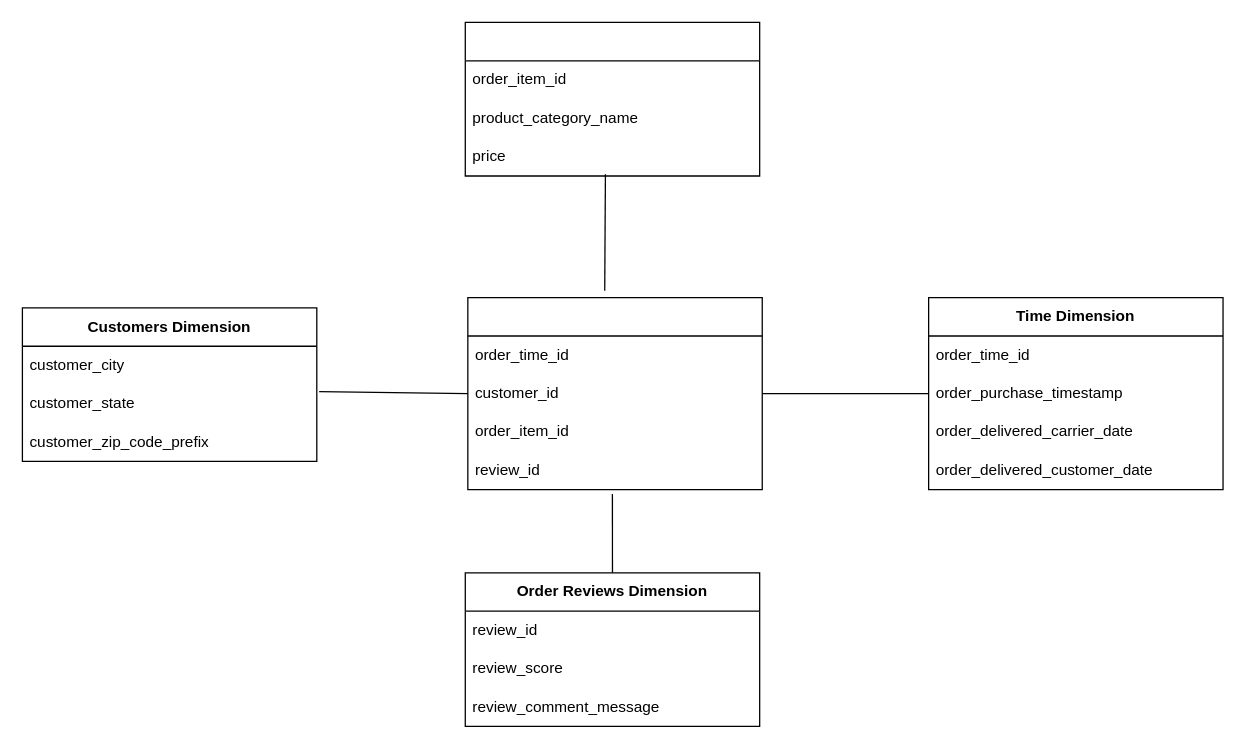
Image size: 1245x749. Some labels were removed from this diagram. The shapes that lost their labels are listed below. From the top down, each one's box as (x1, y1, x2, y2) in pixels, then its label:
(464, 21, 760, 176): Order Items Dimension
(467, 296, 762, 490): Orders (Fact Table)
